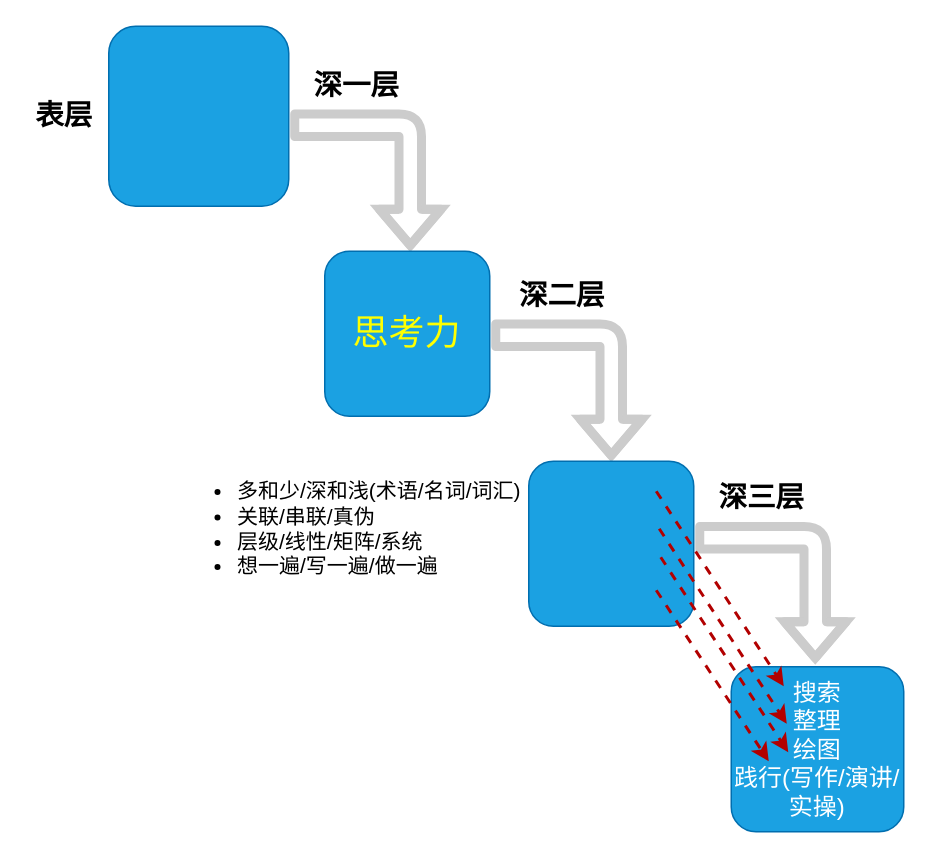
Image size: 930x858. Some labels were removed from this diagram. Here are the shapes that lost their labels. From the top down, the centre of each, then its label:
At pixel 198 115: "执行力 演讲力 写作力 表达力 沟通力".
At pixel 610 543: "概念量 关联度 机构化 转化力".
